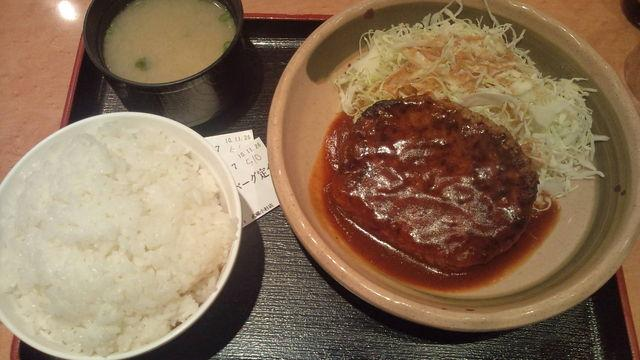plate: (0, 112, 241, 359)
rice: (0, 118, 237, 356)
